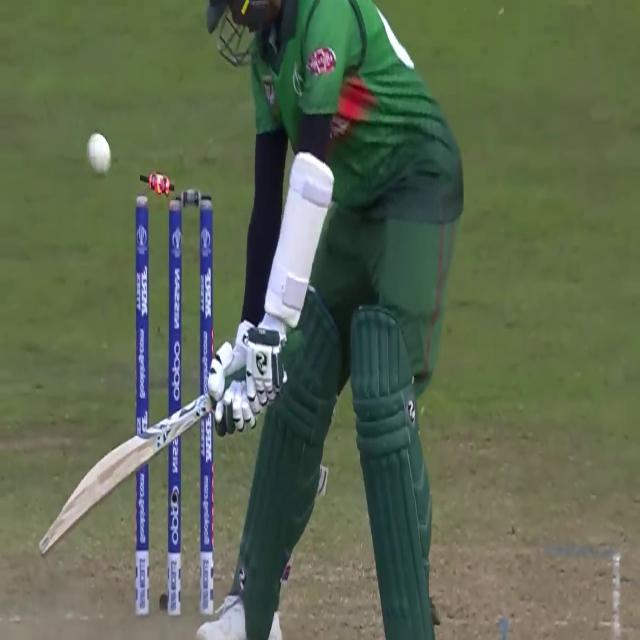ball: (86, 129, 114, 179)
